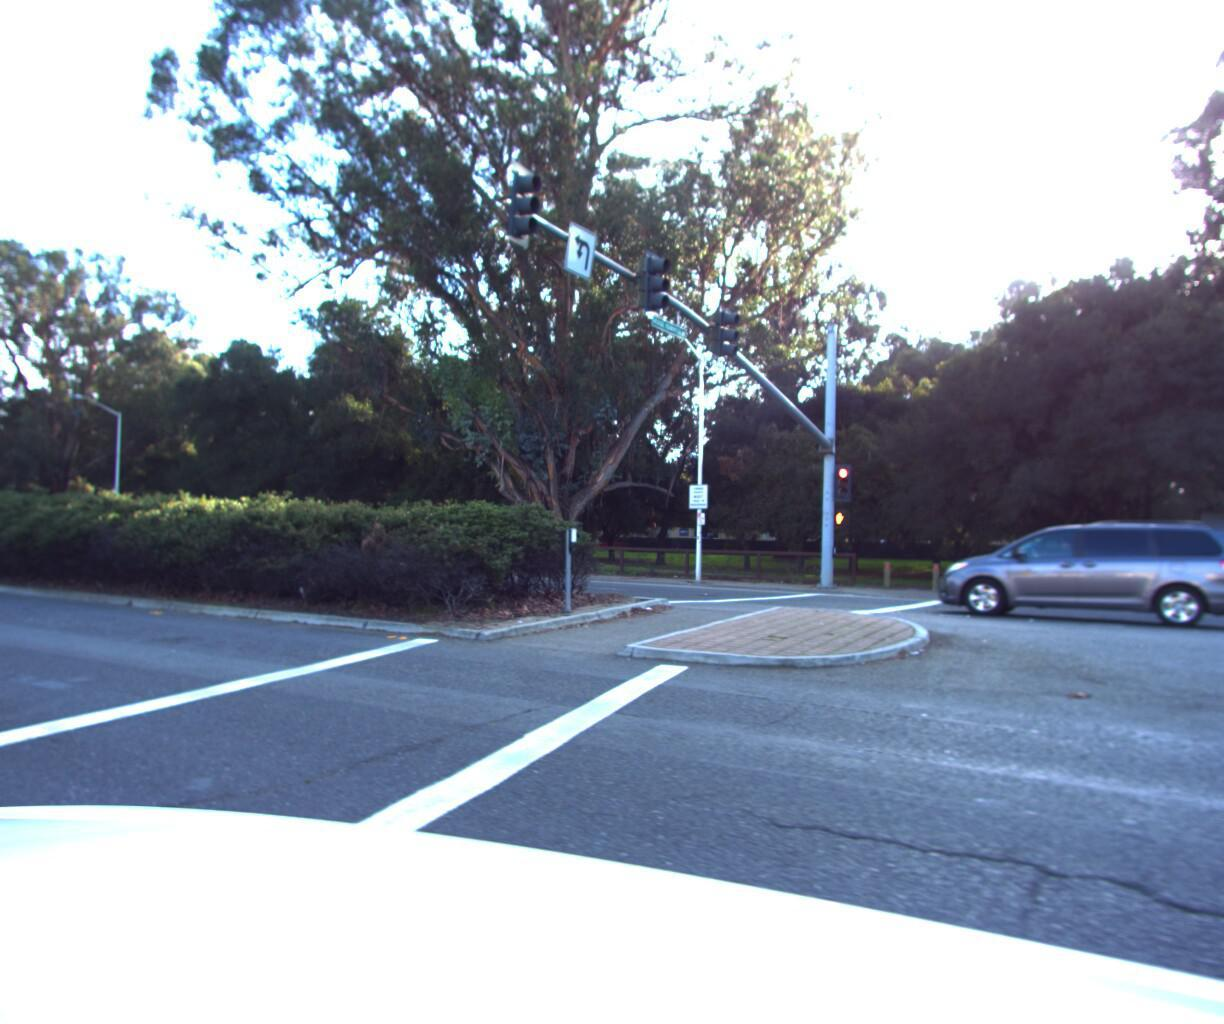car: (934, 509, 1224, 636)
